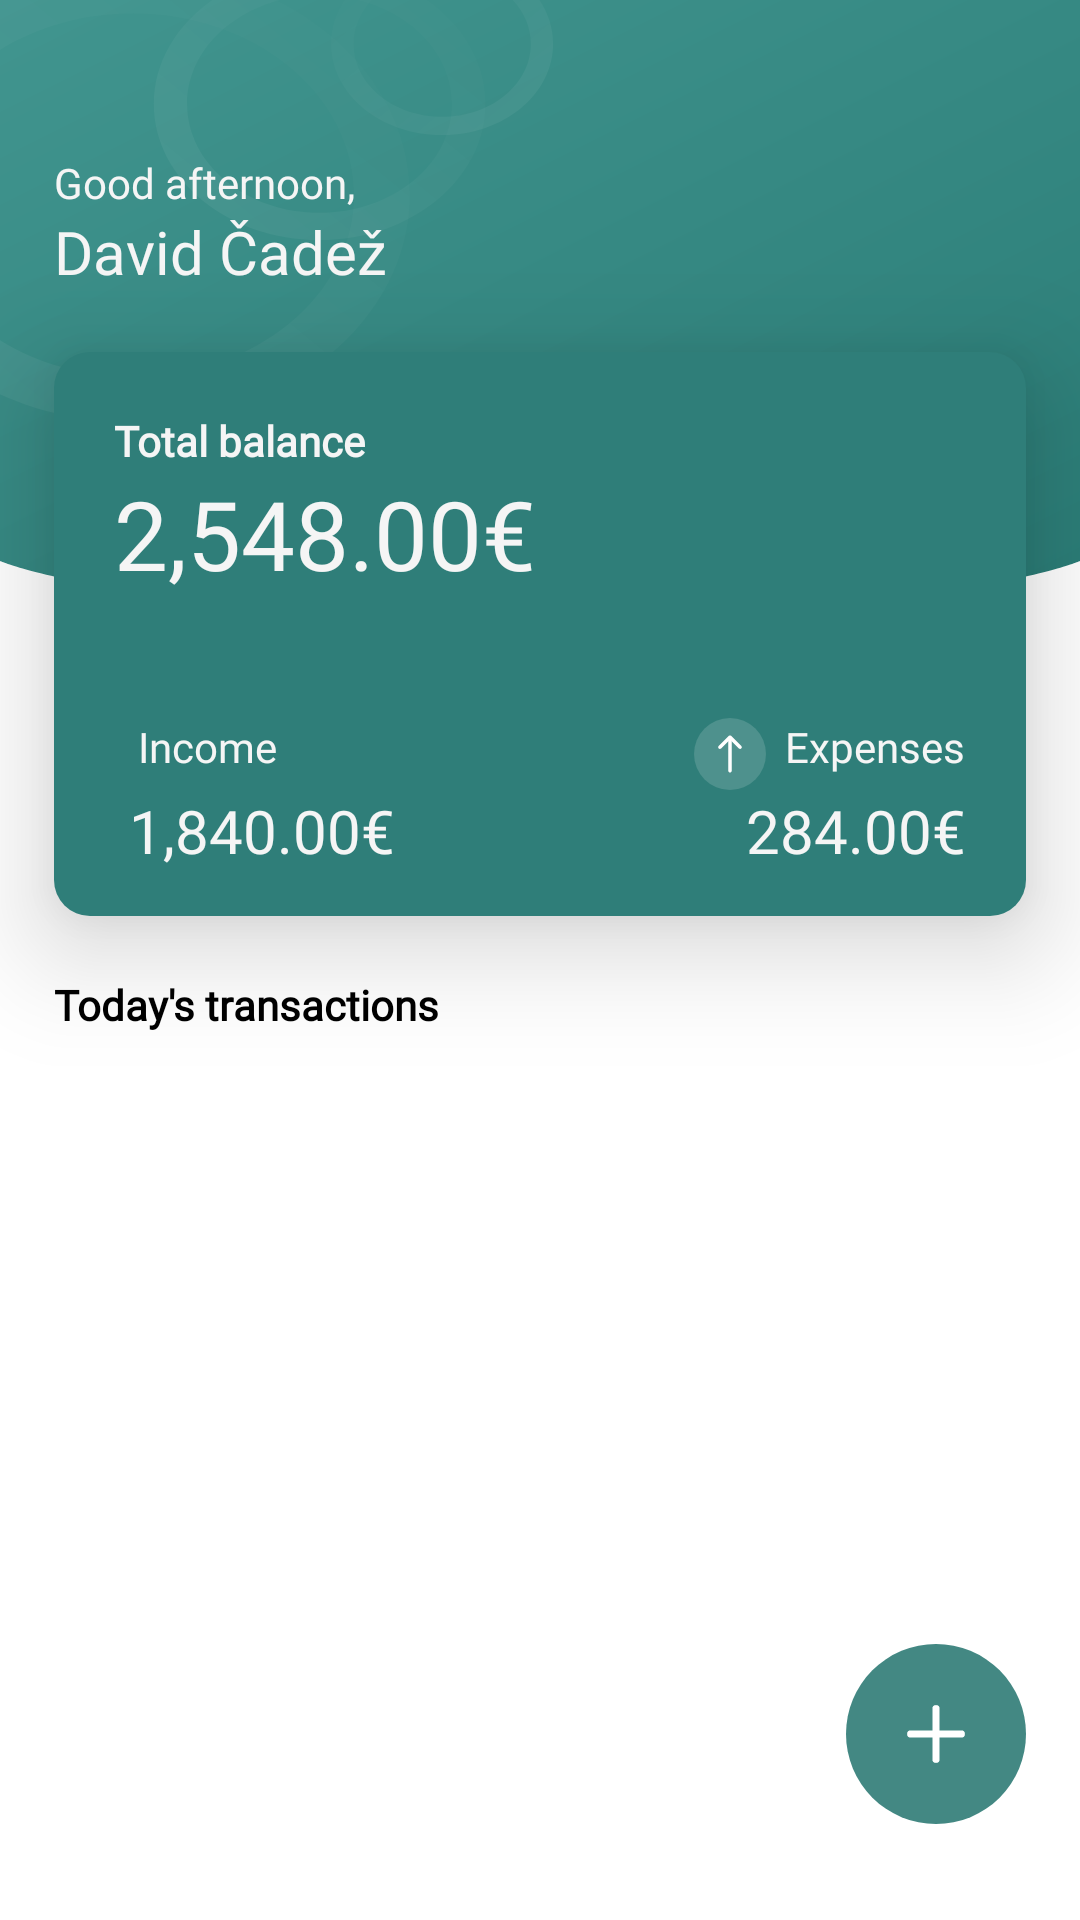

Screen size 1080x1920. Icon name, then its center in pixels as point (x, y):
add: point (936, 1734)
